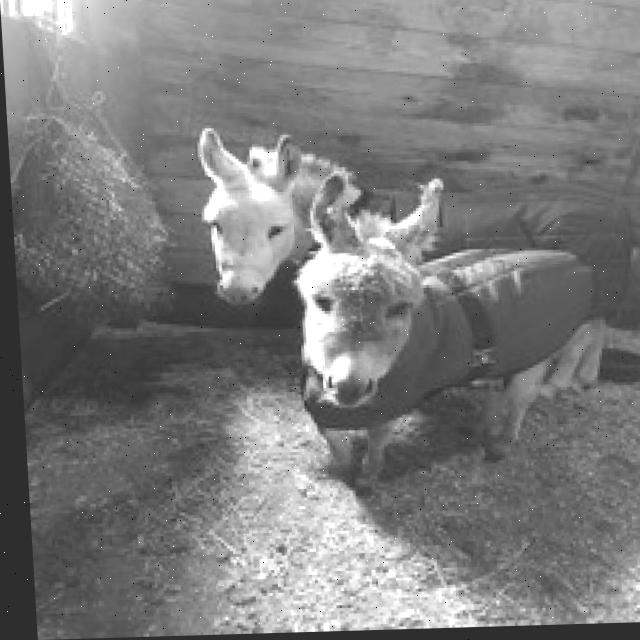Donkey: (285, 160, 615, 492), (194, 121, 373, 309)
